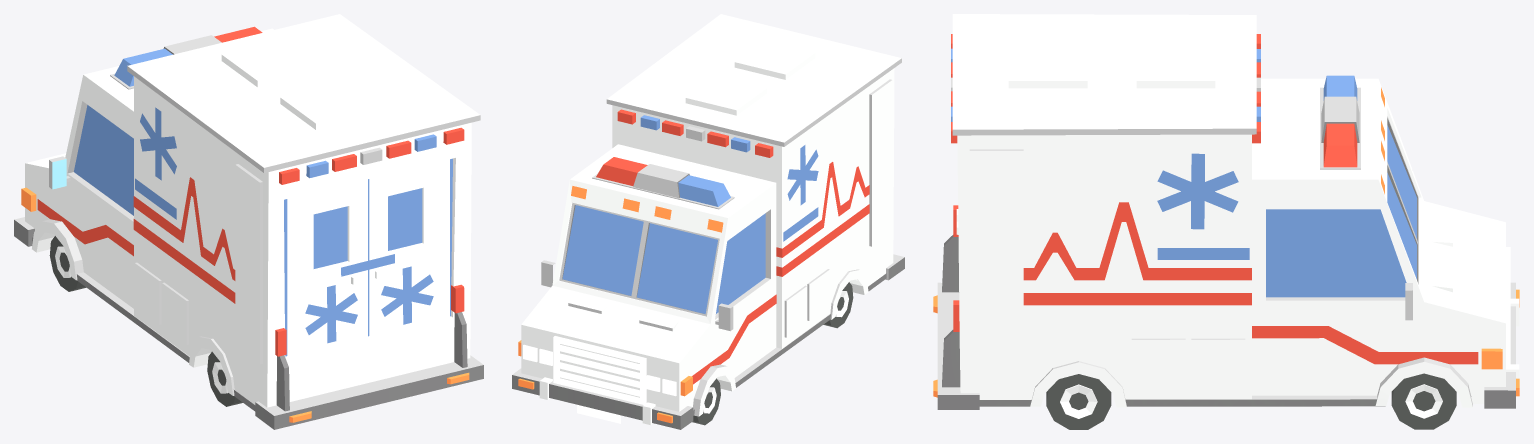
Rendered from transport_purpose.006.glb.
The picture shows the model from 3 angles, left to right: view 1: azimuth 30°, elevation 25°; view 2: azimuth 150°, elevation 25°; view 3: azimuth 270°, elevation 25°; orthographic projection. The views are drawn at different scales.
Visible parts, largest first — view 1: transport_purpose.006(Clone); view 2: transport_purpose.006(Clone); view 3: transport_purpose.006(Clone).
Part boxes in pixels (bbox=[...]): transport_purpose.006(Clone): bbox=[14, 14, 483, 429]; transport_purpose.006(Clone): bbox=[512, 14, 904, 429]; transport_purpose.006(Clone): bbox=[933, 14, 1519, 429].
Bounding box in the file's own units: 1.98 × 2.41 × 4.05.
1 material, 1 textured.
